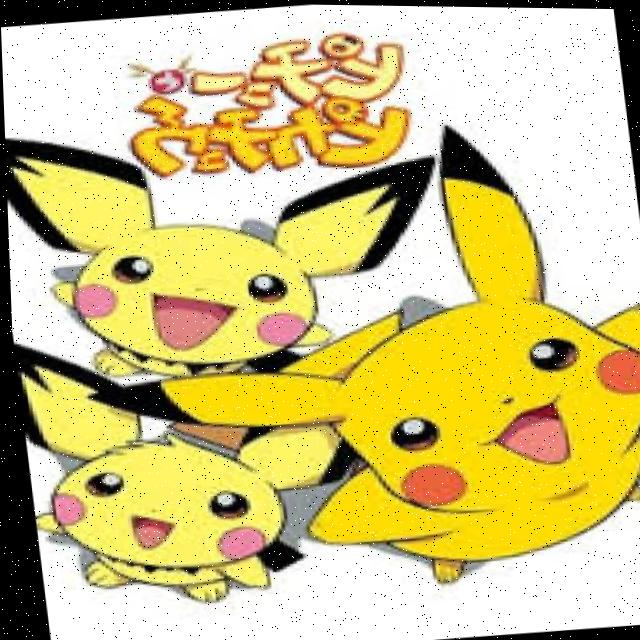pichu: (46, 126, 427, 378), (17, 376, 349, 611)
